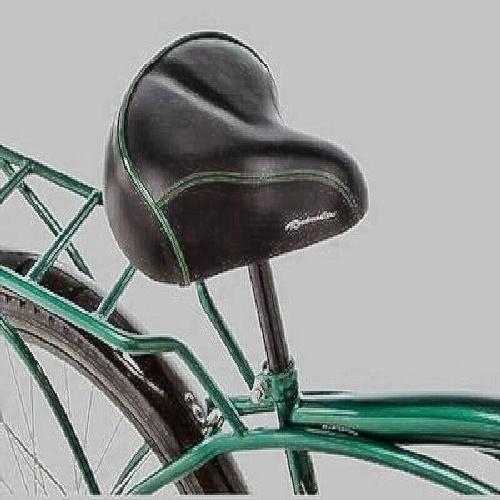bicycle: (33, 48, 471, 485)
